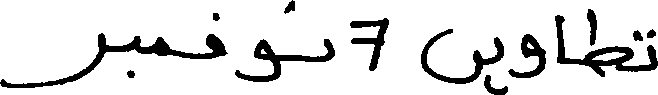7: (348, 15, 387, 71)
ا: (555, 12, 566, 63)
ب: (127, 34, 140, 78)
ت: (634, 27, 656, 71)
ر: (0, 31, 107, 88)
ط: (585, 6, 633, 76)
ف: (204, 11, 226, 59)
م: (154, 35, 168, 57)
ن: (418, 27, 481, 84), (282, 0, 335, 62)
و: (251, 36, 281, 82), (518, 32, 545, 79)
ي: (490, 34, 503, 93)
